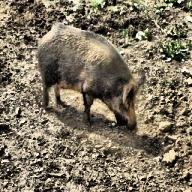boar: (35, 21, 145, 133)
